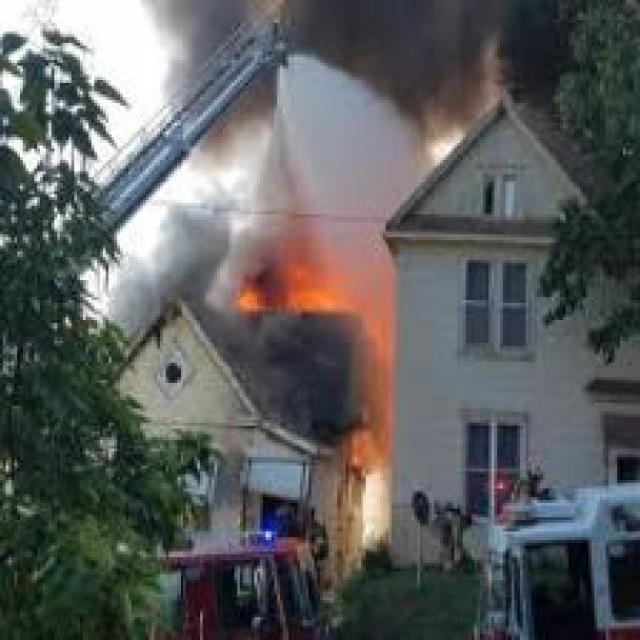fire: (229, 226, 377, 340)
